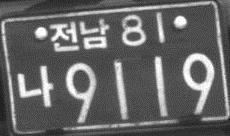1: (152, 52, 171, 120), (112, 57, 131, 123), (154, 9, 168, 44)
8: (120, 13, 147, 47)
9: (181, 52, 216, 118), (64, 61, 98, 124)
나: (16, 63, 54, 109)
전남_O: (48, 18, 110, 52)
